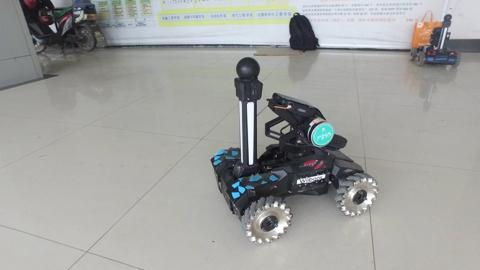bag: (285, 11, 322, 53), (413, 8, 444, 48)
chariot: (210, 54, 381, 245), (408, 12, 461, 67)
